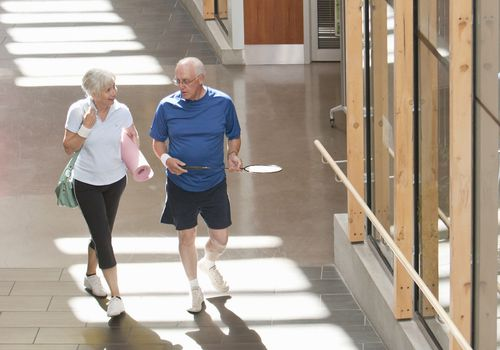Person: (50, 68, 146, 318), (159, 67, 254, 304)
